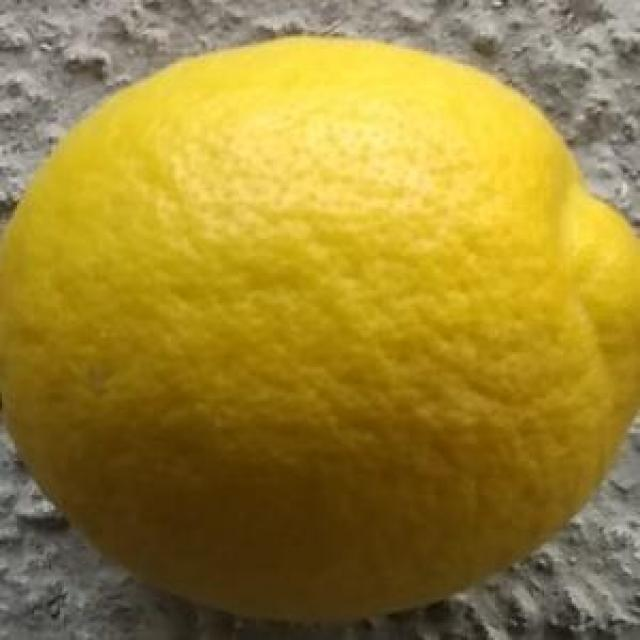lemon: (6, 27, 639, 626)
